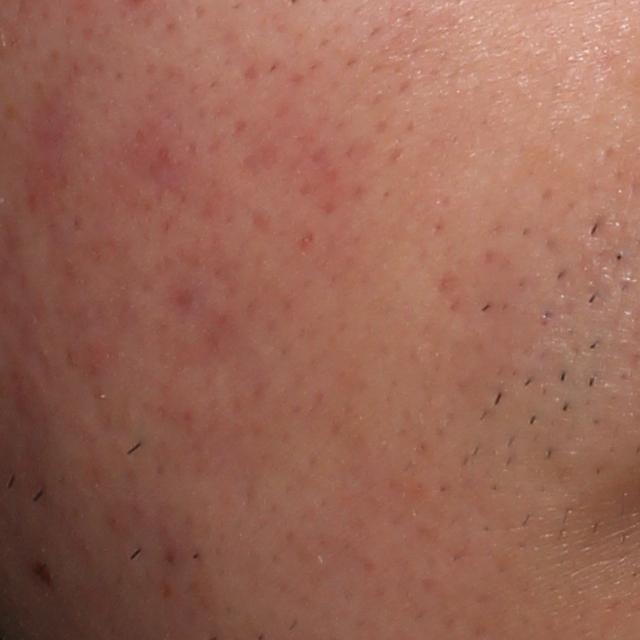nevus: (25, 558, 54, 592)
